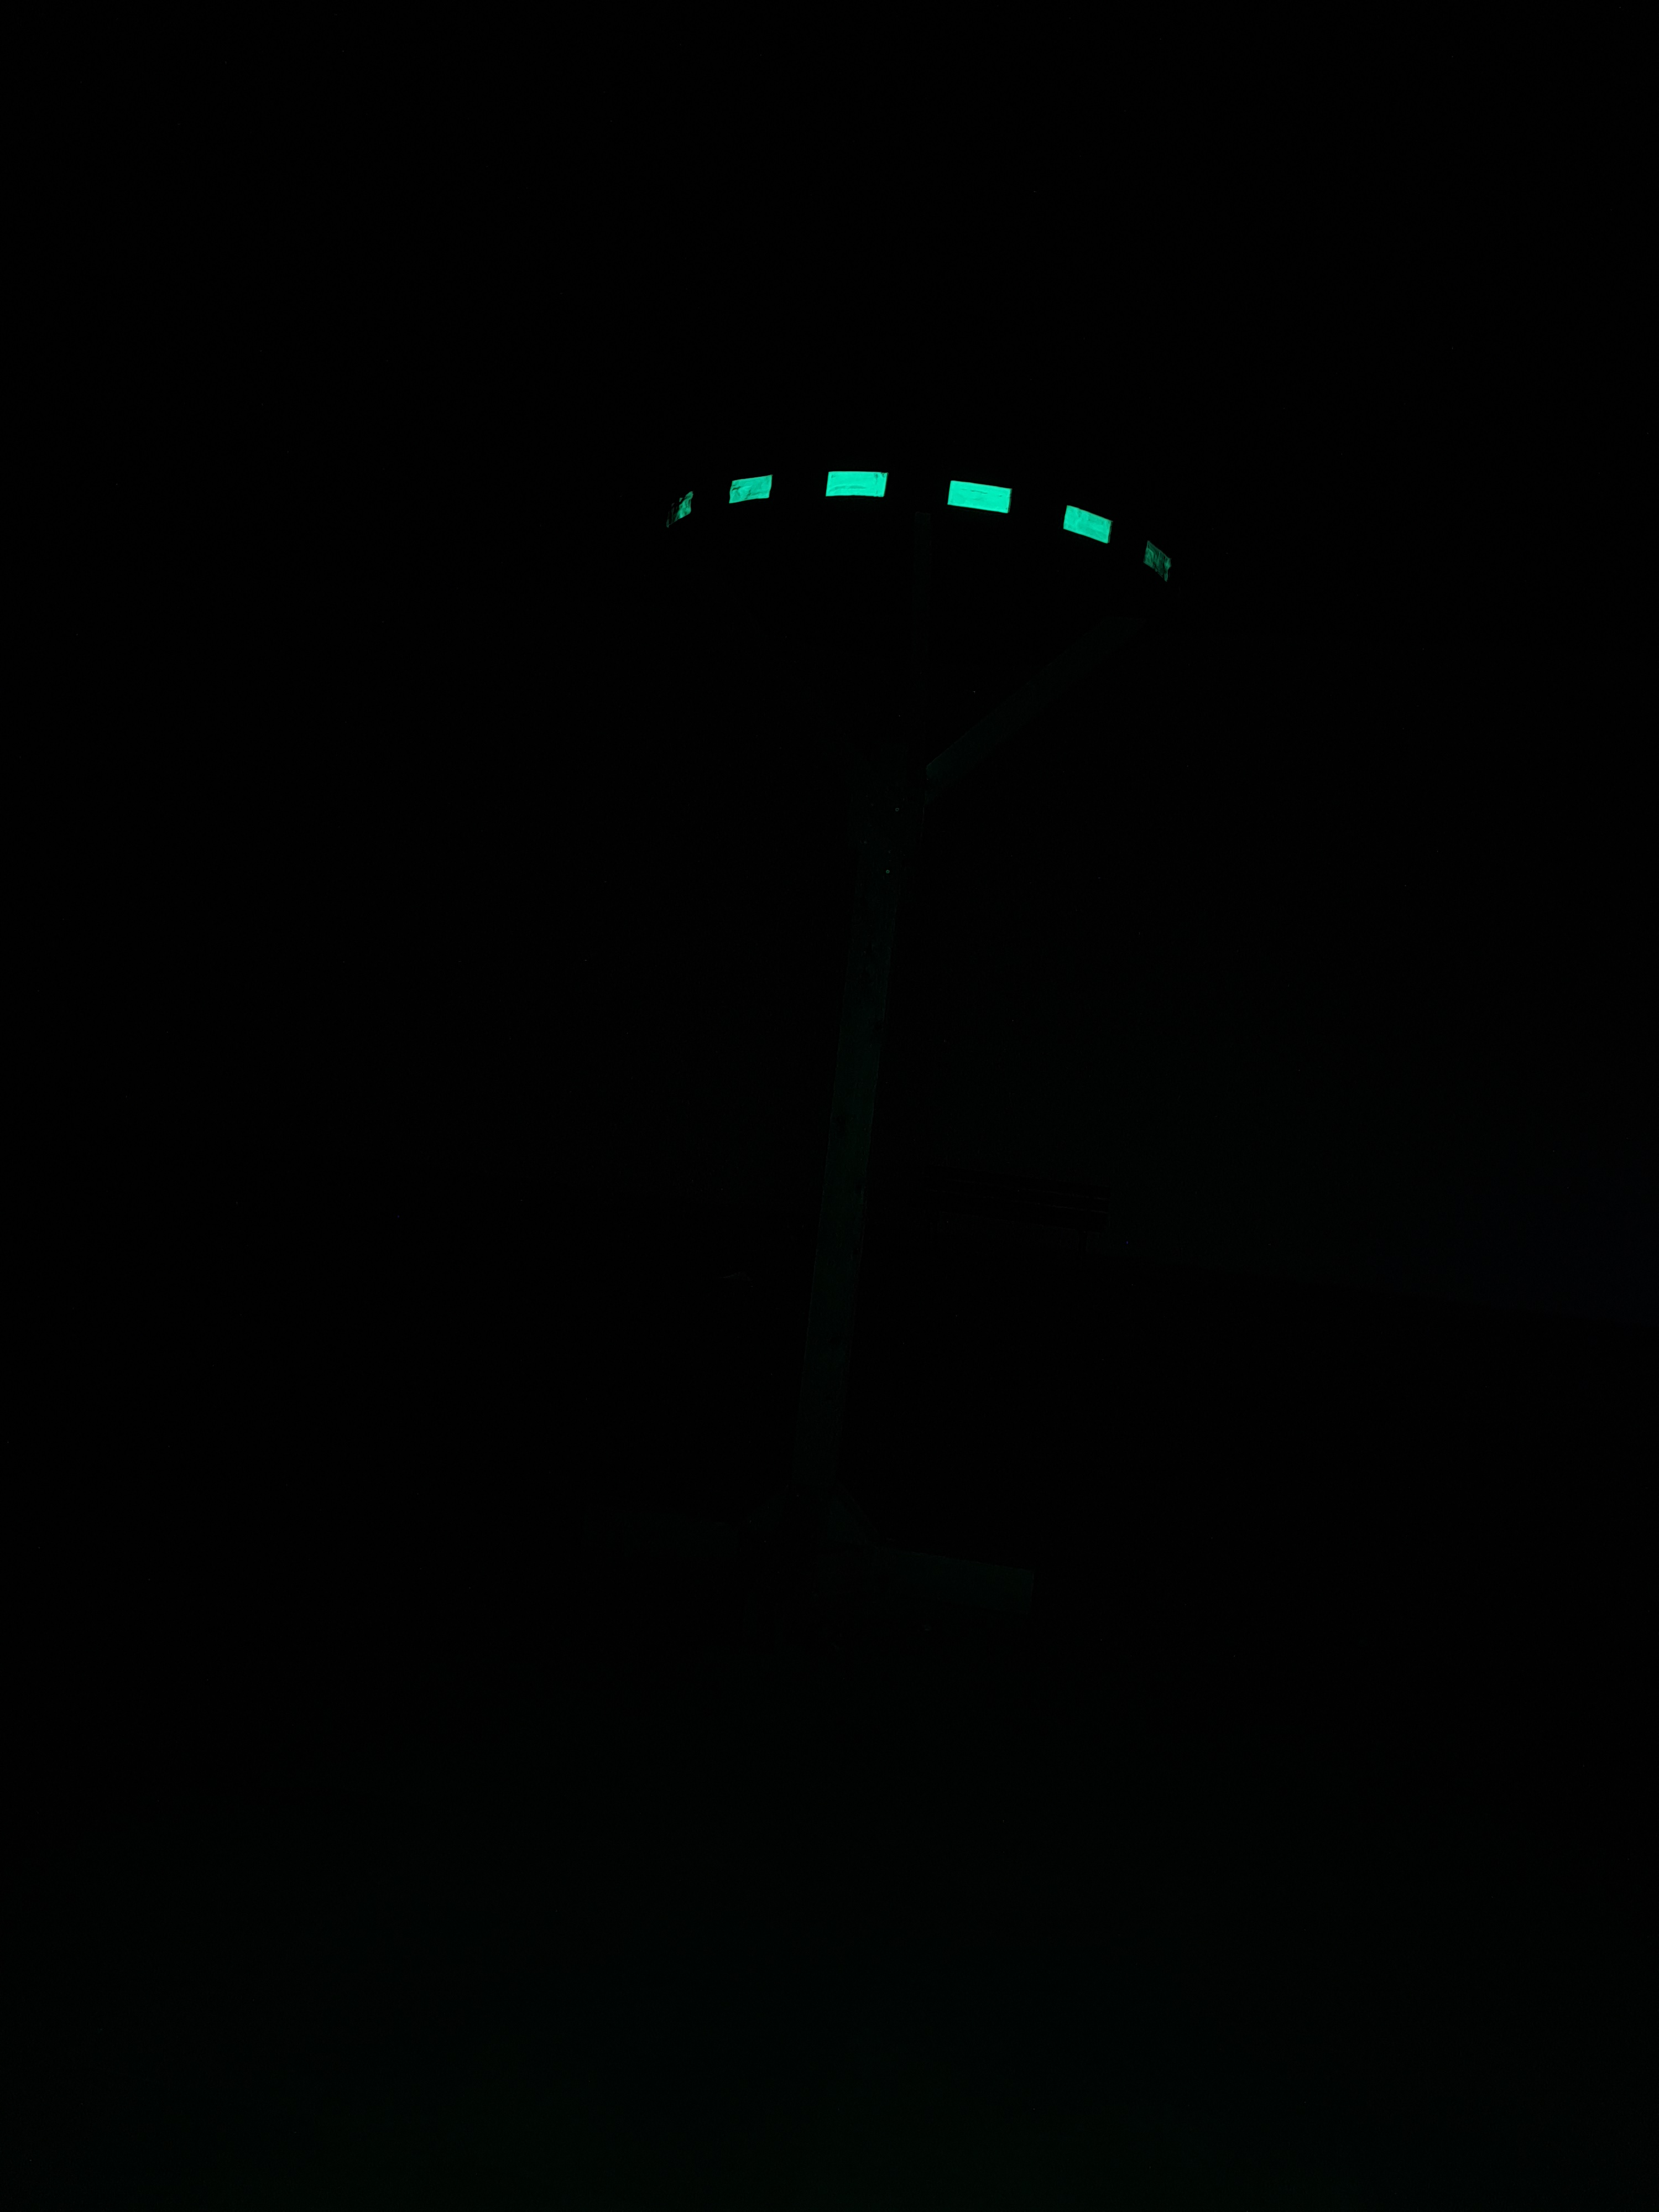hoop: (666, 460, 1178, 589)
